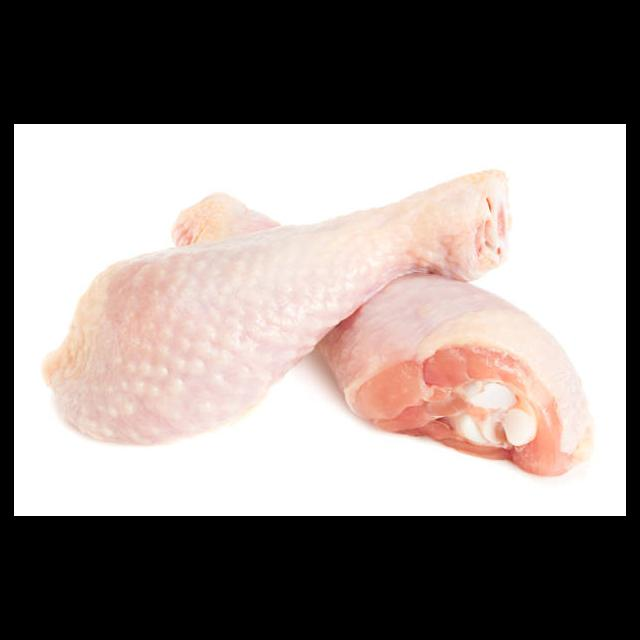chicken: (41, 166, 599, 478)
